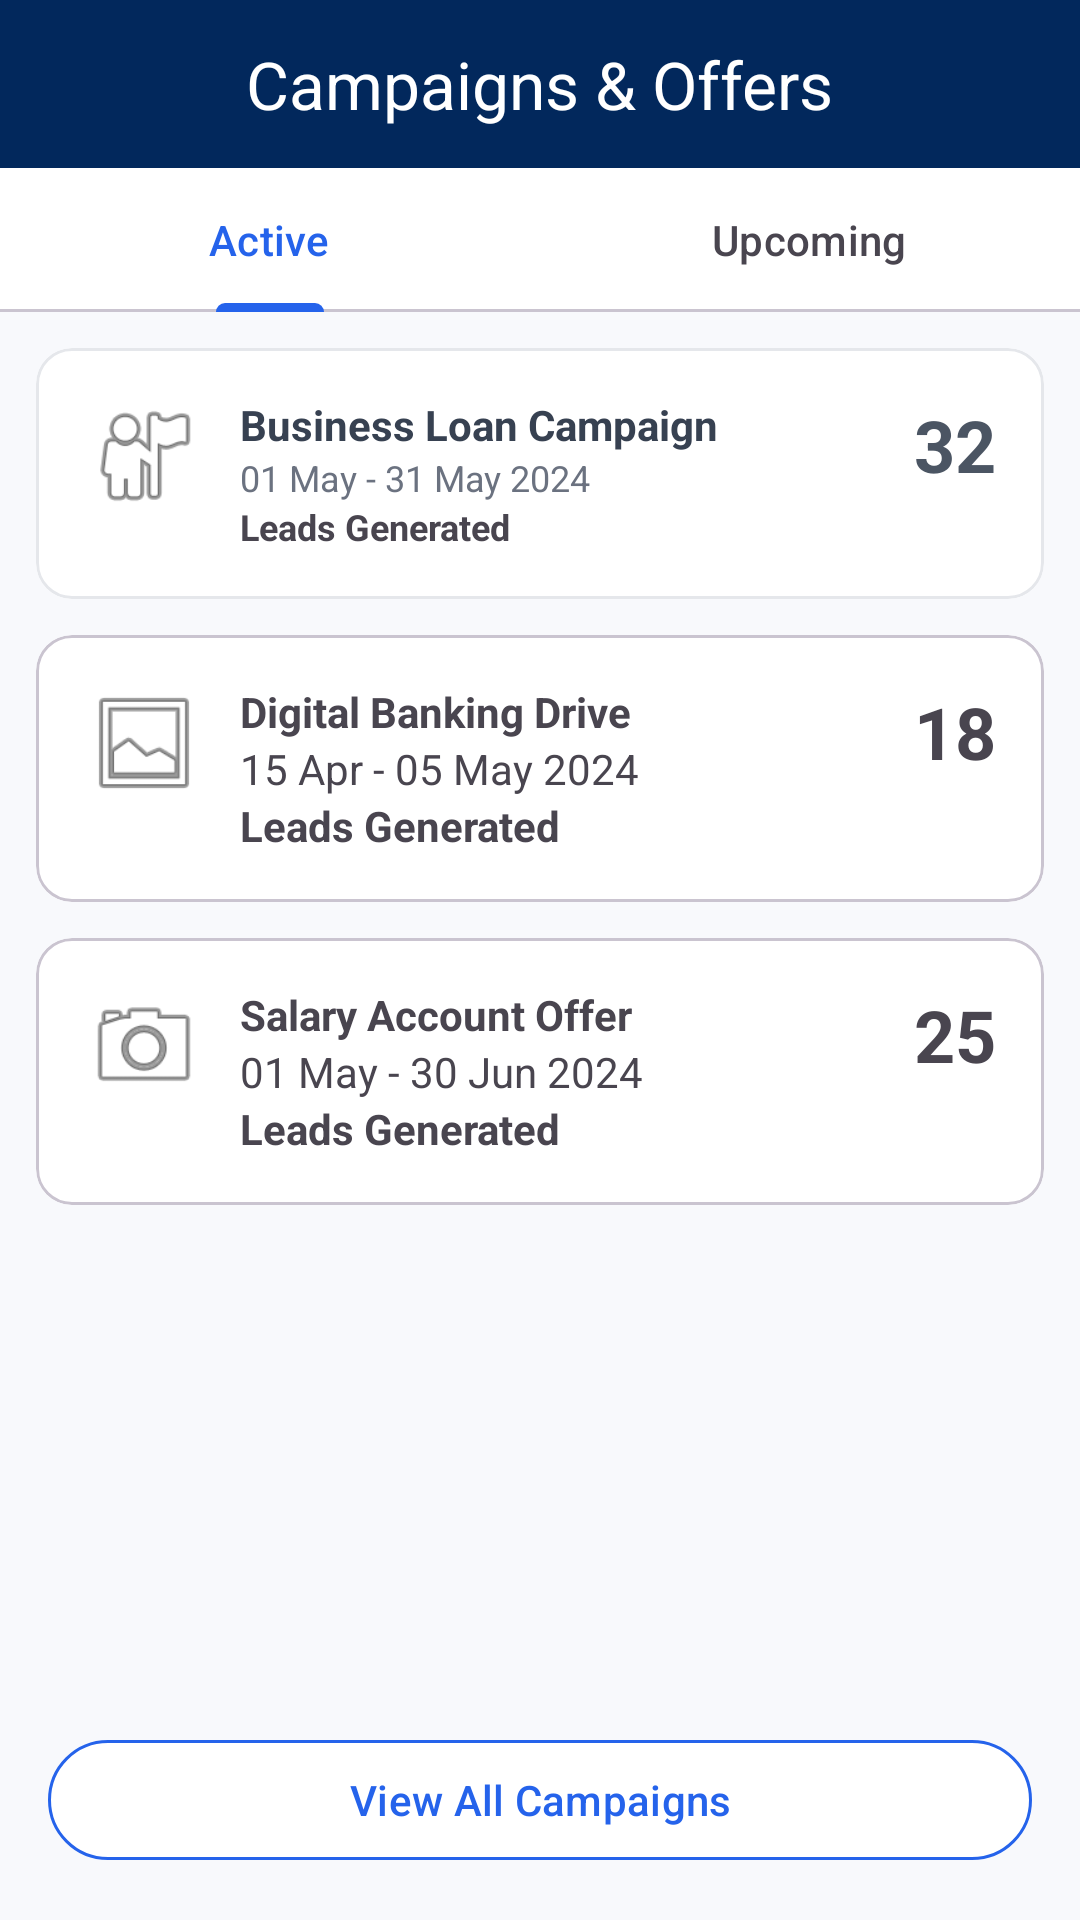

Named icons in this screenshot (1080px×1920px) and their bounding boxes, (x1, y1, x2, y2):
camera: (98, 1007, 190, 1081)
gallery: (99, 698, 189, 788)
